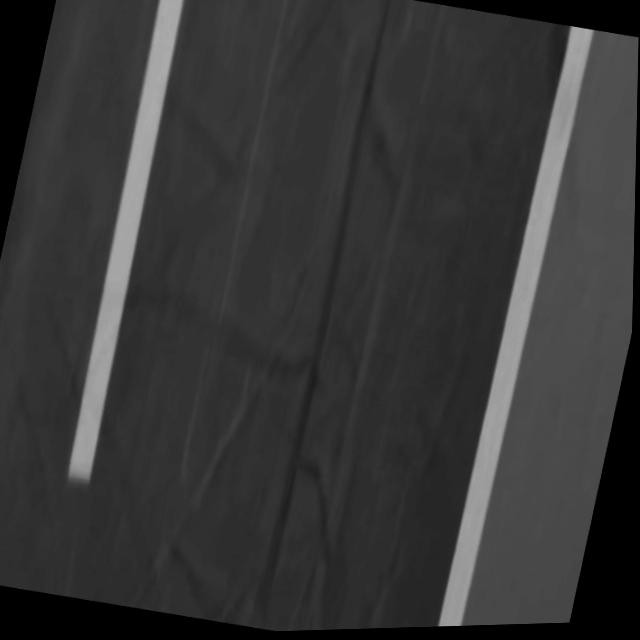center: (67, 0, 184, 482)
right: (436, 26, 593, 627)
